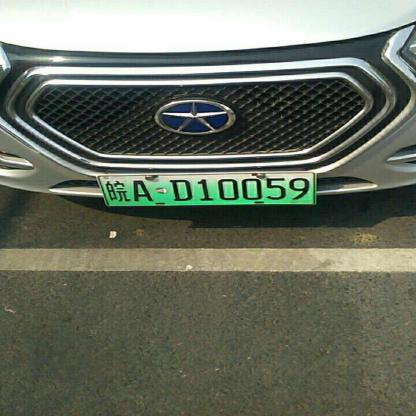lp: (98, 172, 316, 204)
